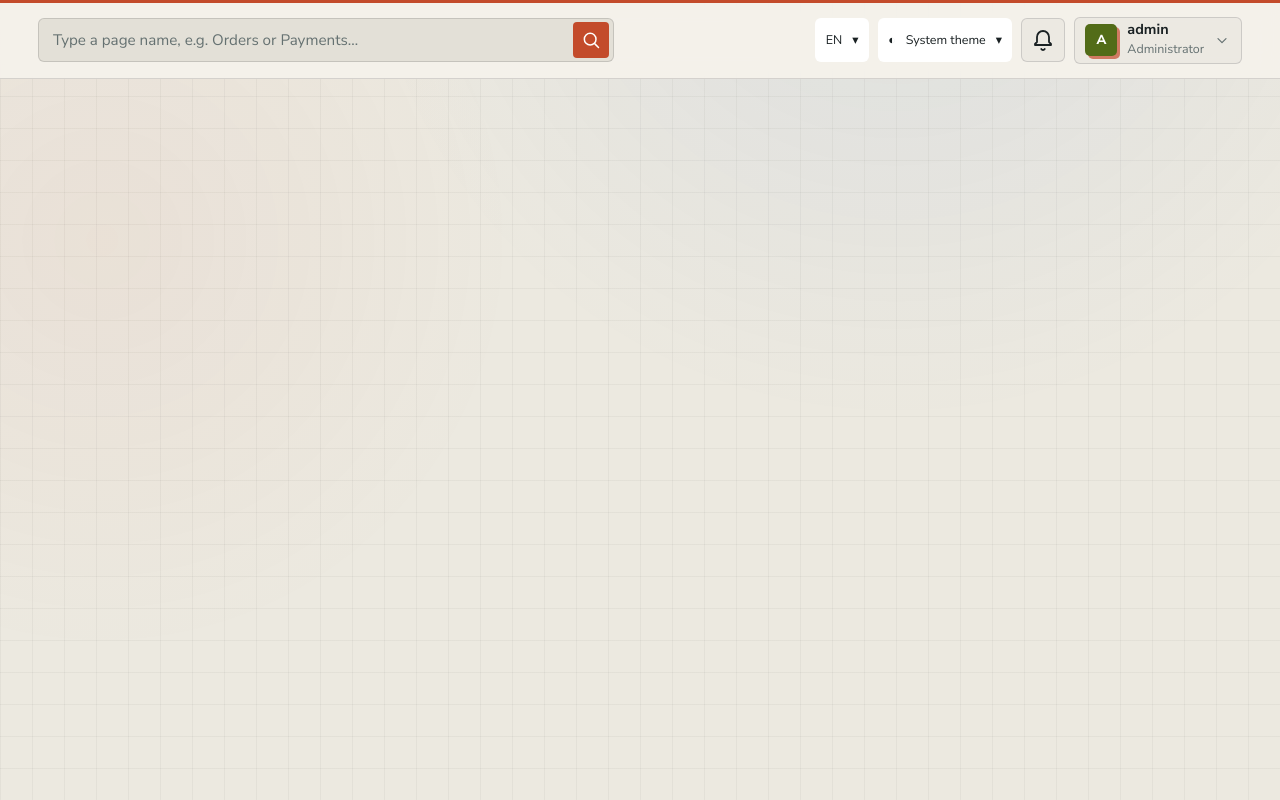
Test: AdminHeader activity feed request states › shows a retryable error instead of the empty copy on initial failure
The width and height of the screenshot is (1280, 800).
Click the button named "Notifications" at (1043, 40), box x1=1021 y1=18 x2=1065 y2=62
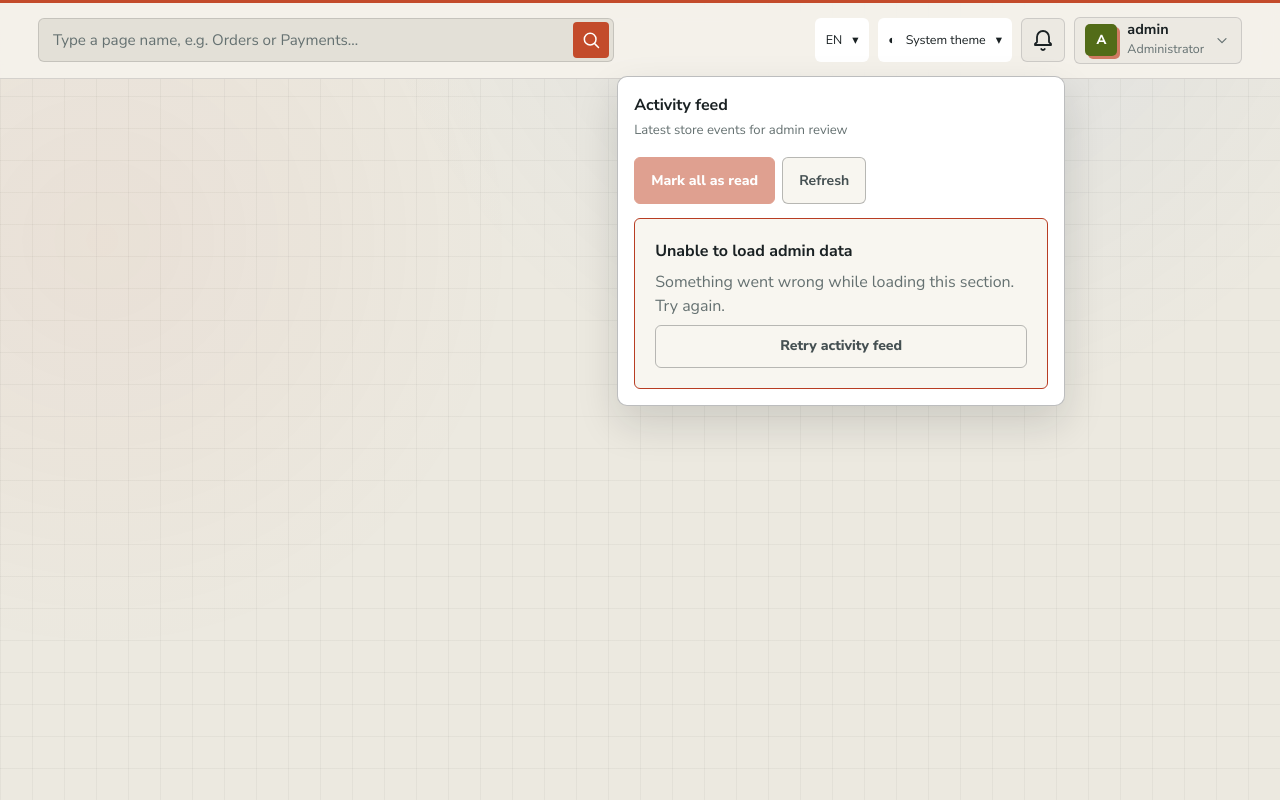
Expected: the message shows "Unable to load admin data", x1=655 y1=240 x2=853 y2=262
